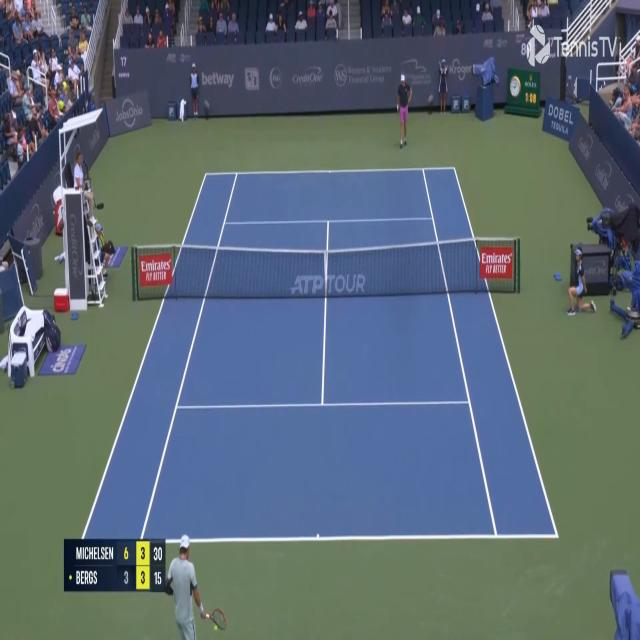tennis-player: (170, 531, 229, 639), (395, 73, 411, 150)
